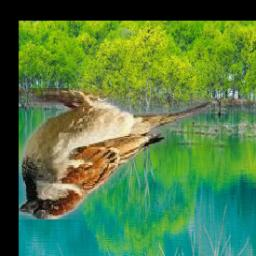Sparrow: (19, 88, 210, 219)
